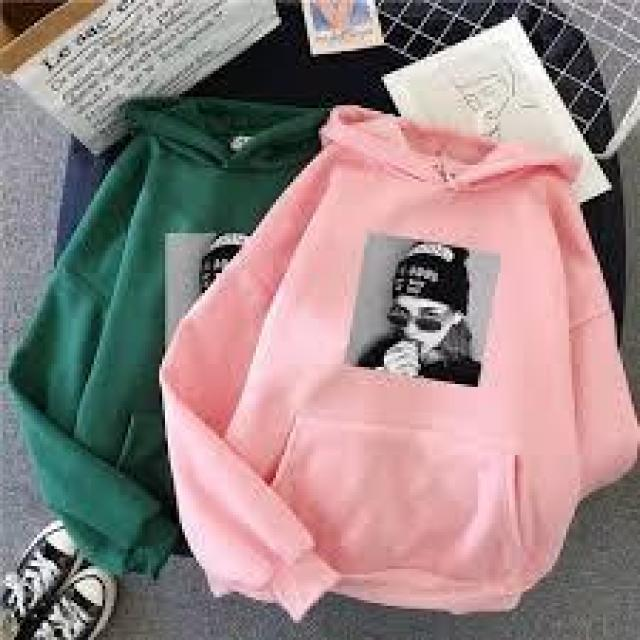sweater: (168, 85, 640, 640), (0, 65, 353, 589)
